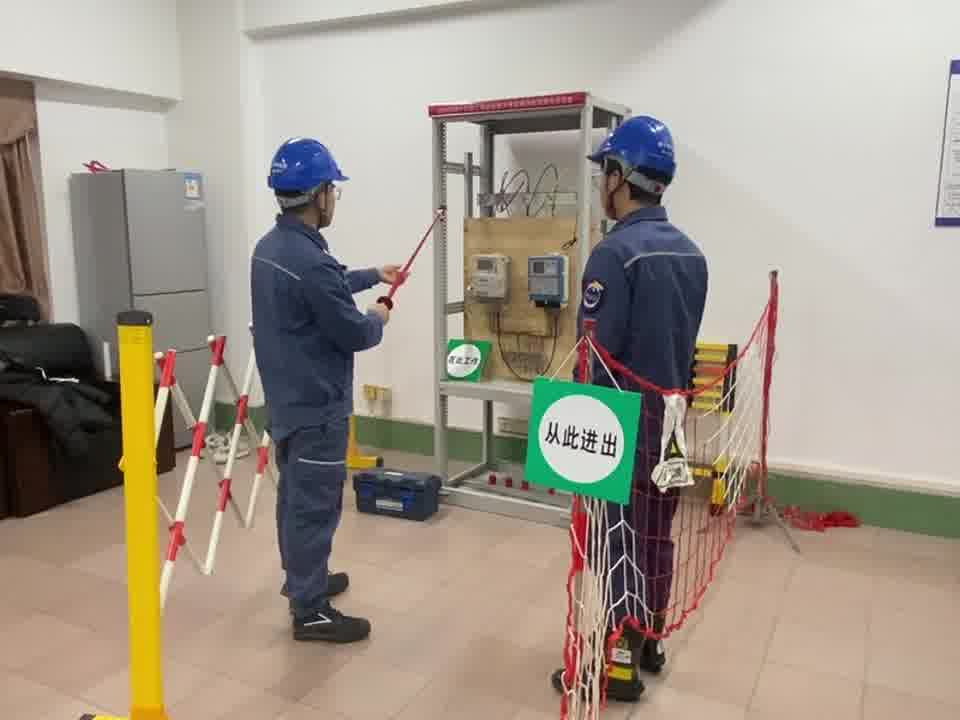downsuit: (273, 428, 354, 609)
halt: (587, 114, 680, 216), (266, 137, 350, 227)
hand: (377, 260, 413, 286), (367, 299, 390, 322)
inear: (600, 163, 630, 201), (312, 183, 331, 217)
intosign: (521, 373, 639, 511)
person: (244, 136, 394, 629), (569, 110, 713, 397)
shoe: (550, 603, 670, 703)
sleeve: (578, 278, 605, 310)
testrod: (381, 207, 447, 304)
upsuit: (249, 225, 387, 422), (579, 214, 709, 386)
worksign: (441, 332, 495, 382)
